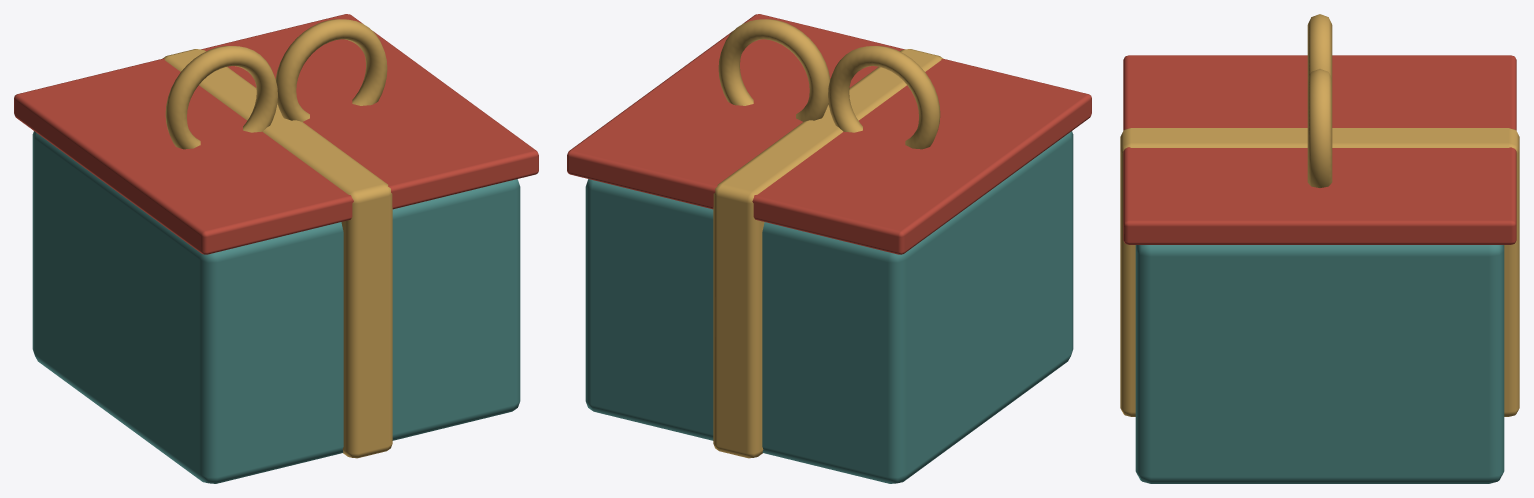
Rendered from wp-boite-cadeau.glb.
3 renders of one model, left to right at view 1: azimuth 30°, elevation 25°; view 2: azimuth 150°, elevation 25°; view 3: azimuth 270°, elevation 25°, orthographic. The views are drawn at different scales.
Parts seen in each view (by area): view 1: wp-boite-cadeau; view 2: wp-boite-cadeau; view 3: wp-boite-cadeau.
Boxes of the visible parts, left/top/right/bottom form: wp-boite-cadeau: left=14, top=14, right=538, bottom=483; wp-boite-cadeau: left=567, top=14, right=1091, bottom=483; wp-boite-cadeau: left=1120, top=14, right=1519, bottom=483.
Size of the model in its own units: 0.25 by 0.25 by 0.25.
